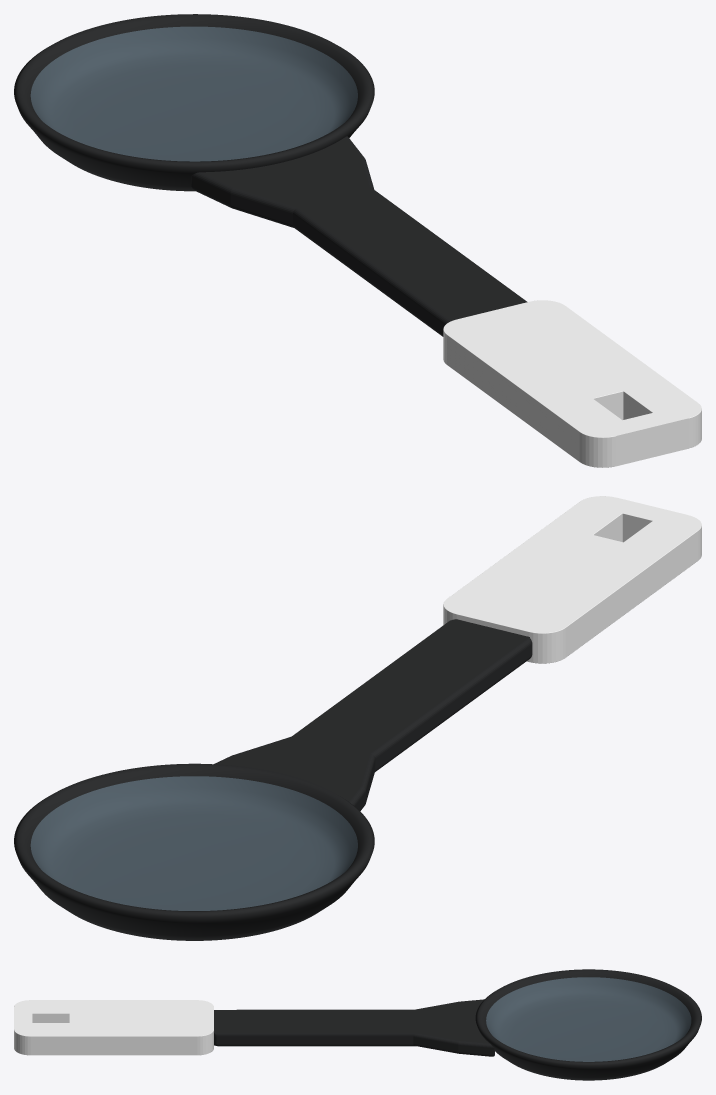
3 renders of one model, top to bottom at view 1: azimuth 30°, elevation 25°; view 2: azimuth 150°, elevation 25°; view 3: azimuth 270°, elevation 25°, orthographic. The views are drawn at different scales.
Visible parts, largest first — view 1: pan_body, wooden_grip_section, flat_handle_core; view 2: pan_body, wooden_grip_section, flat_handle_core; view 3: pan_body, wooden_grip_section, flat_handle_core.
Boxes of the visible parts, box(x1,y1,x2,y2) form: pan_body: box(14, 14, 374, 191); wooden_grip_section: box(443, 300, 701, 467); flat_handle_core: box(191, 136, 527, 336); pan_body: box(14, 763, 374, 940); wooden_grip_section: box(443, 496, 701, 663); flat_handle_core: box(214, 619, 532, 811); pan_body: box(475, 969, 701, 1080); wooden_grip_section: box(14, 1000, 213, 1055); flat_handle_core: box(214, 999, 495, 1056).
Size of the model in its own units: 2.58 by 0.362 by 7.84.
